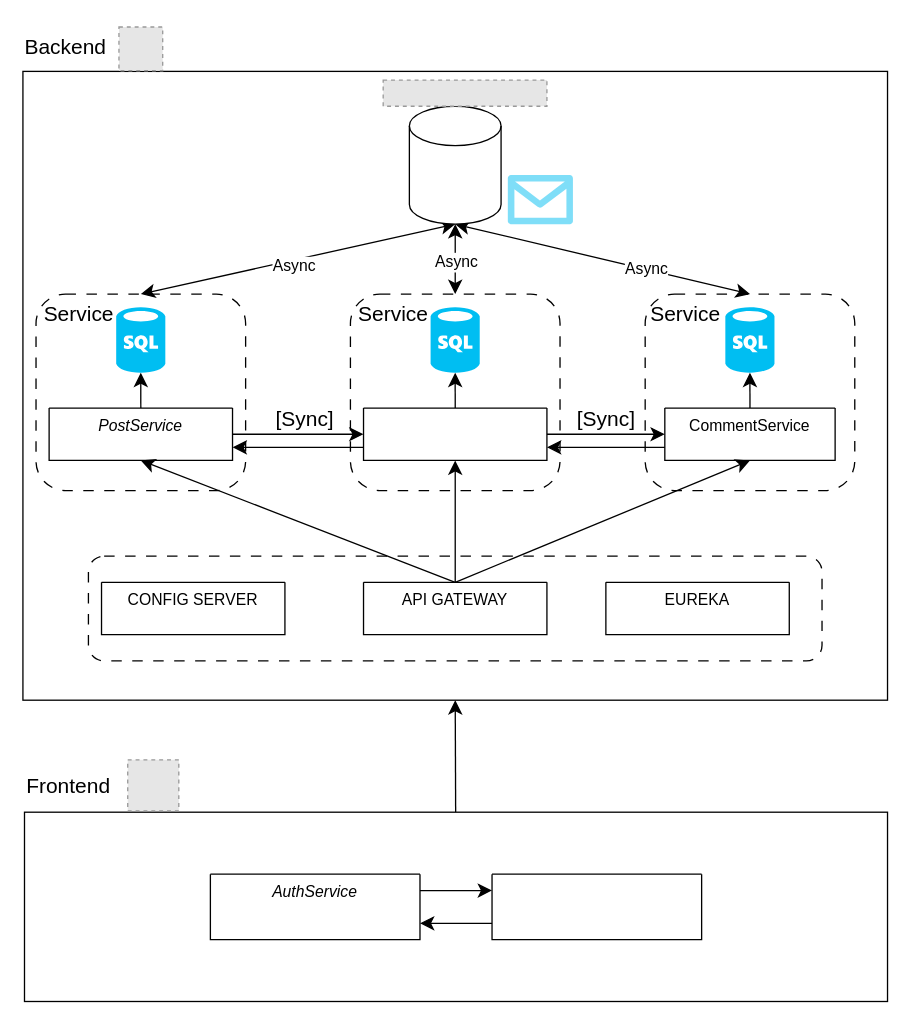
This 910x1024 diagram has some shape labels left out. Grey dashed boxes stand in for pictures. Here are the shapes that lost their labels. From the top down, the centre of each, then its label:
the point at 454,164: EVENTBUS
the point at 454,433: ReviewService
the point at 596,906: Angular web
